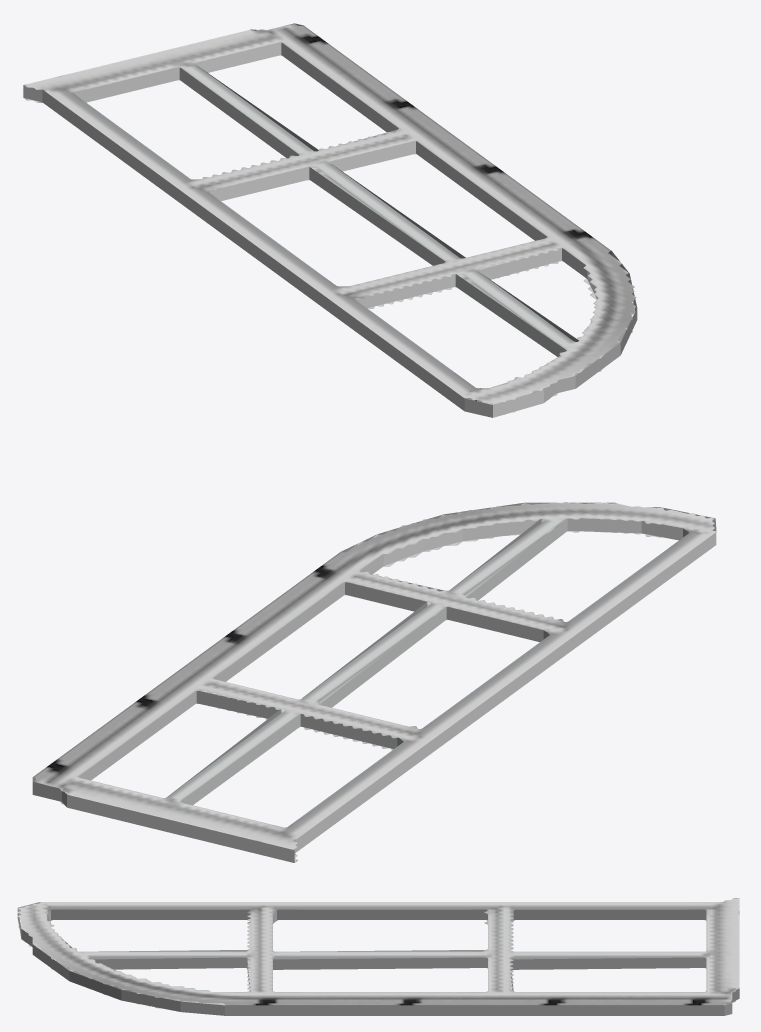
File: pz_native_fixtures_windows_white_7_frame.obj
3 views of the same model, one above another, from view 1: azimuth 30°, elevation 25°; view 2: azimuth 150°, elevation 25°; view 3: azimuth 270°, elevation 25° (orthographic). The views are drawn at different scales.
Visible parts, largest first — view 1: pz_native_fixtures_windows_white_7_frame; view 2: pz_native_fixtures_windows_white_7_frame; view 3: pz_native_fixtures_windows_white_7_frame.
Boxes of the visible parts, box(x1,y1,x2,y2) form: pz_native_fixtures_windows_white_7_frame: box(23, 23, 637, 417); pz_native_fixtures_windows_white_7_frame: box(32, 502, 716, 862); pz_native_fixtures_windows_white_7_frame: box(17, 898, 739, 1015).
Bounding box in the file's own units: 0.9062 × 0.04 × 2.53.
Materials: 1 (1 with a texture image).
